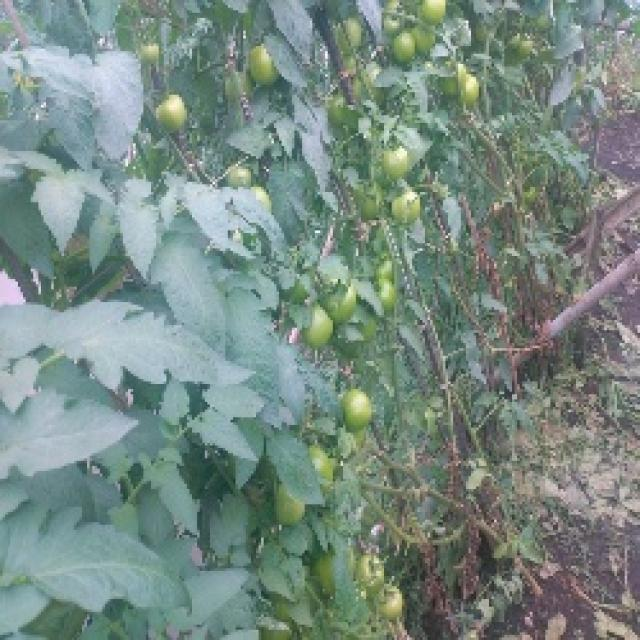tomato: (332, 374, 398, 447), (347, 541, 397, 610), (146, 85, 206, 139), (383, 179, 434, 242), (286, 297, 342, 353), (363, 560, 411, 620), (242, 46, 298, 95), (447, 56, 497, 109), (368, 143, 430, 185), (373, 273, 416, 314), (223, 162, 273, 197), (392, 27, 432, 70), (408, 1, 454, 32), (131, 31, 163, 62)
